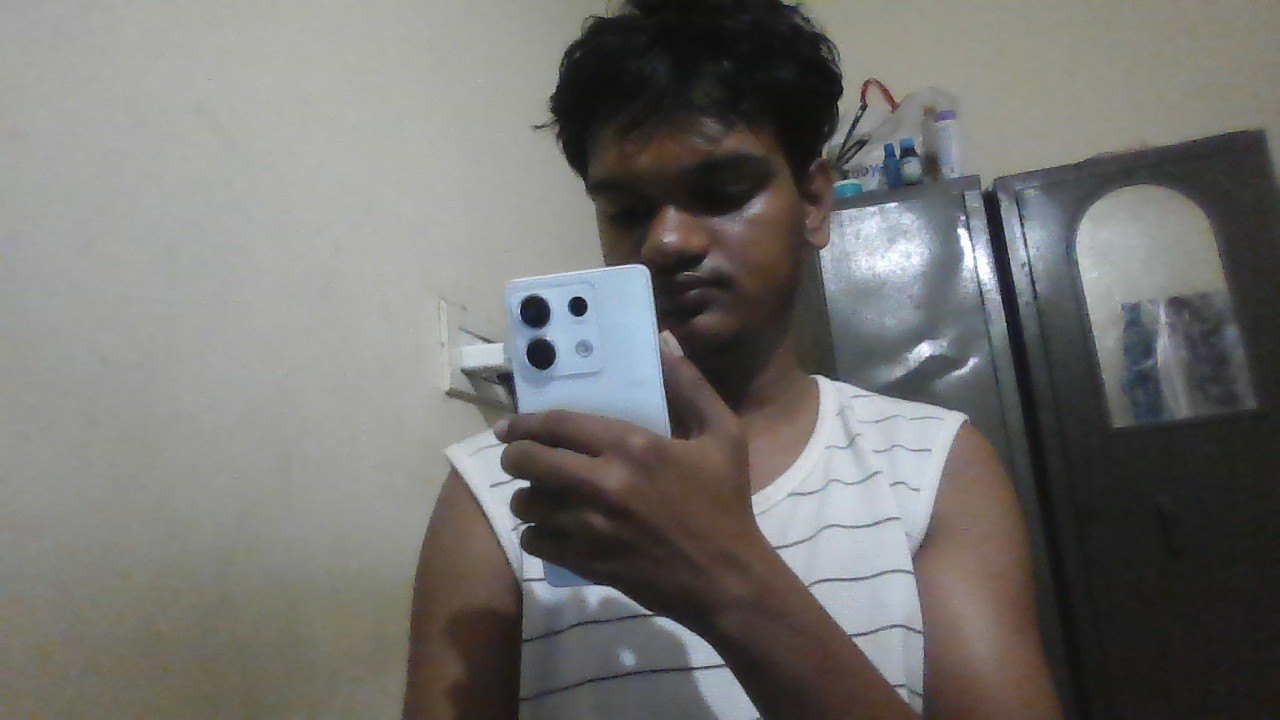phone: (500, 267, 661, 408)
